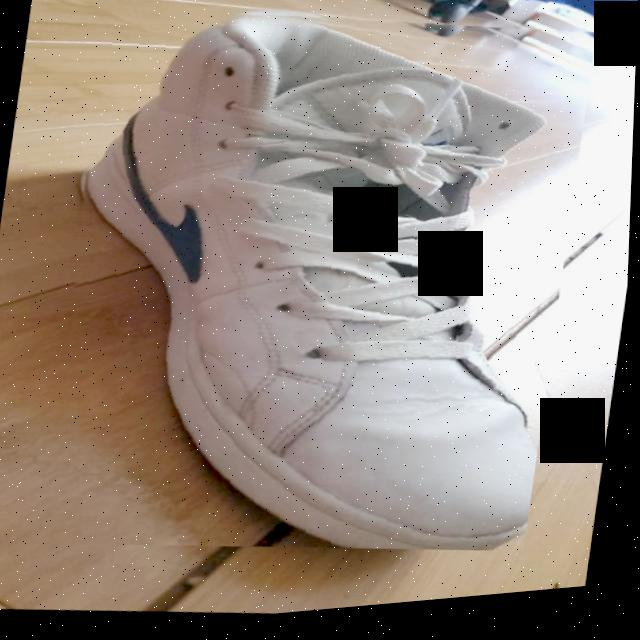shoe: (29, 0, 601, 596)
